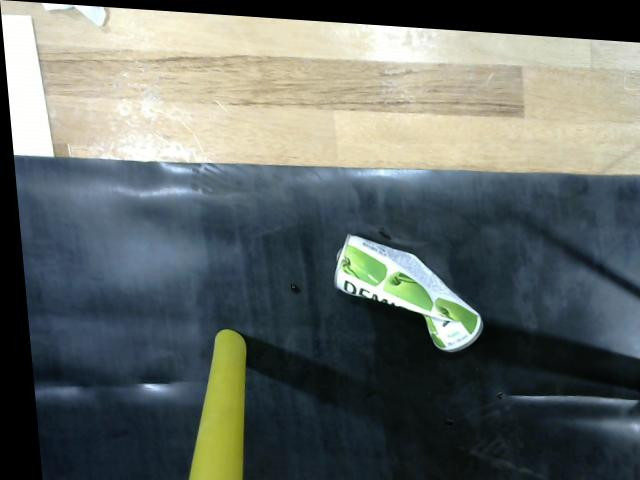bottle: (331, 223, 489, 354)
